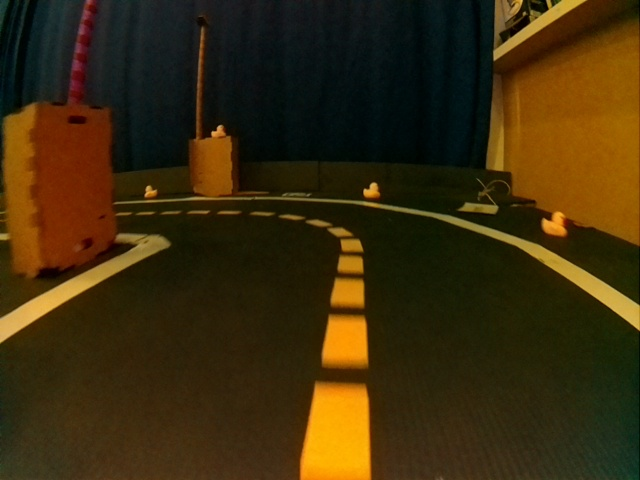Duckie: (541, 211, 569, 236), (363, 182, 379, 200), (144, 186, 155, 198), (212, 124, 223, 136)
QR code: (282, 191, 311, 198)
